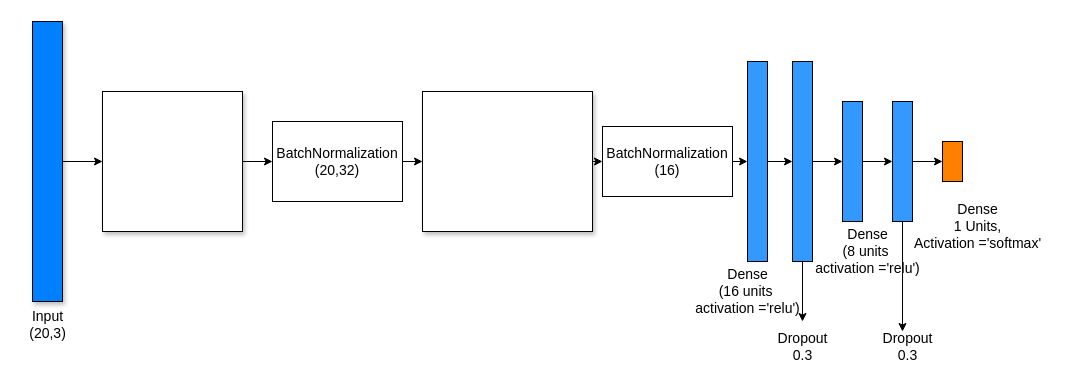
Some shapes in this 1069 by 389 pixel diagram are drawn without their labels. Each missing label, with the centre of its shape:
"LSTM(16) return_sequence =true dropout =0.2 recurrent_dropout =0.2" belongs at point (508, 162).
"LSTM(20,32) return_sequence =true dropout =0.2 recurrent_dropout =0.2" belongs at point (173, 162).
